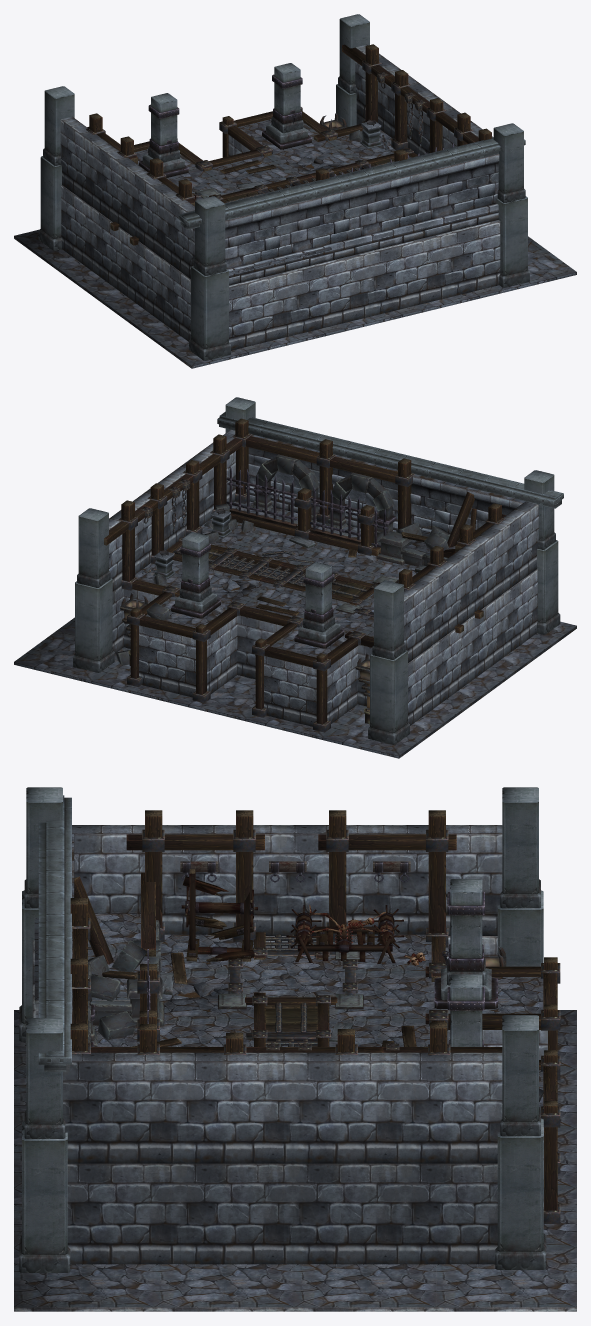
File: cell1U_D.fbx
The picture shows the model from 3 angles, top to bottom: view 1: azimuth 30°, elevation 25°; view 2: azimuth 150°, elevation 25°; view 3: azimuth 270°, elevation 25°; orthographic projection. The views are drawn at different scales.
Parts seen in each view (by area): view 1: Cell1U_D; view 2: Cell1U_D; view 3: Cell1U_D.
Part boxes in pixels (x1,y1,x2,y2): Cell1U_D: (14, 14, 576, 368); Cell1U_D: (14, 397, 576, 758); Cell1U_D: (14, 787, 576, 1311).
Size of the model in its own units: 33.26 by 12.81 by 26.61.
